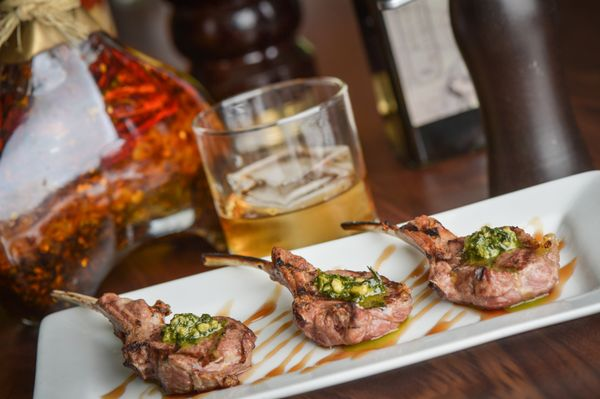pizza: (191, 75, 381, 261), (449, 1, 598, 197), (169, 1, 317, 102)
soup: (84, 291, 257, 395)
